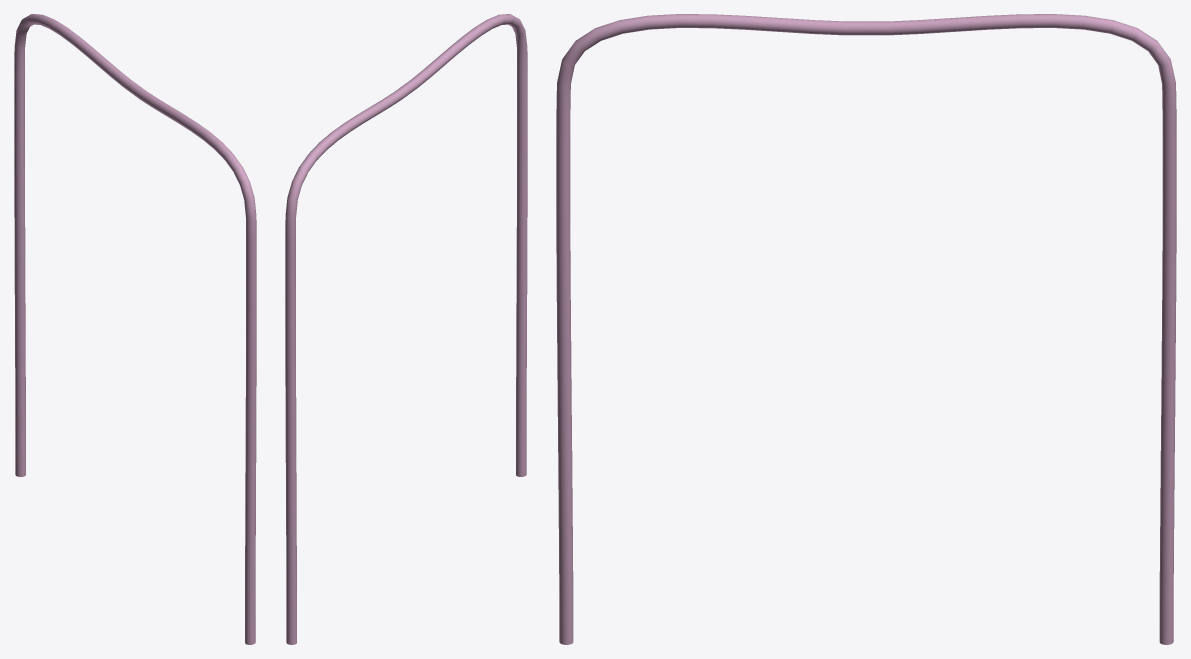
3 views of the same model, side by side, from view 1: azimuth 30°, elevation 25°; view 2: azimuth 150°, elevation 25°; view 3: azimuth 270°, elevation 25° (orthographic). The views are drawn at different scales.
Parts seen in each view (by area): view 1: BezierCurve.010; view 2: BezierCurve.010; view 3: BezierCurve.010.
Part boxes in pixels (x1,y1,x2,y2): BezierCurve.010: [14, 14, 256, 644]; BezierCurve.010: [285, 14, 527, 644]; BezierCurve.010: [556, 14, 1176, 644].
Bounding box in the file's own units: 0.092 × 4.54 × 4.07.
